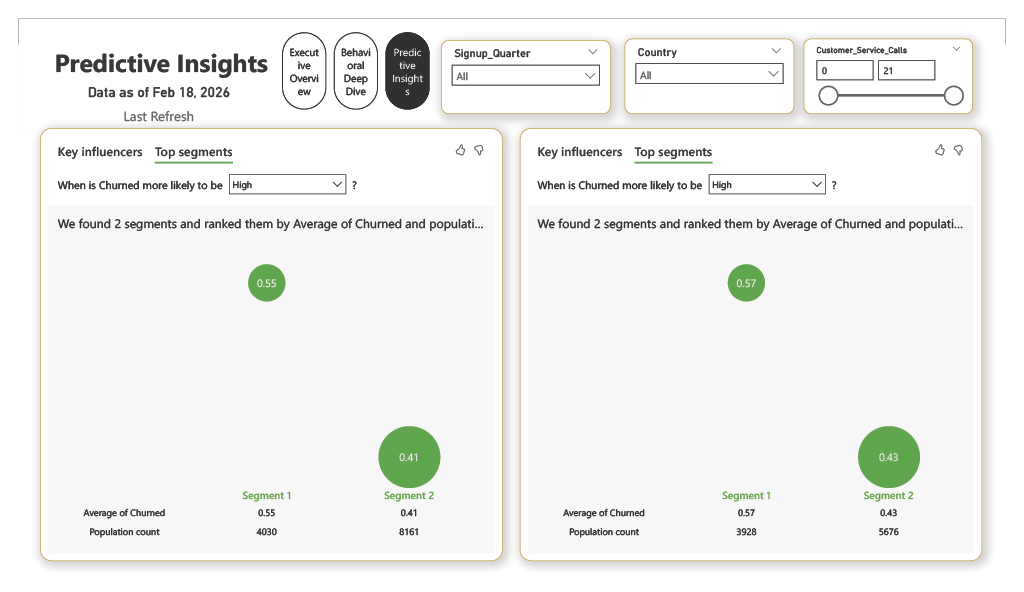

Layout of this report page (visuals, bound fields, positions):
{"tool":"powerbi","page":{"name":"Predictive Insights","canvas":[1280,720],"ordinal":2},"visuals":[{"type":"slicer","fields":{"Values":["ecommerce_customer_churn_dataset_cleaned.Customer_Service_Calls"]},"box":[1018,26,220,98],"z":0},{"type":"slicer","fields":{"Values":["ecommerce_customer_churn_dataset_cleaned.Country"]},"box":[786,26,220,98],"z":1000},{"type":"slicer","fields":{"Values":["ecommerce_customer_churn_dataset_cleaned.Signup_Quarter"]},"box":[548,28,220,96],"z":2000},{"type":"keyDriversVisual","fields":{"Target":["ecommerce_customer_churn_dataset_cleaned.Churned"],"ExplainBy":["Sum(ecommerce_customer_churn_dataset_cleaned.Login_Frequency)"]},"box":[28,142,600,562],"z":3000},{"type":"keyDriversVisual","fields":{"ExplainBy":["Sum(ecommerce_customer_churn_dataset_cleaned.Mobile_App_Usage)"],"Target":["ecommerce_customer_churn_dataset_cleaned.Churned"]},"box":[650,142,600,562],"z":4000},{"type":"textbox","box":[28,30,314,76],"z":5000},{"type":"card","fields":{"Values":["ecommerce_customer_churn_dataset_cleaned.Last Refresh"]},"box":[44,72,276,70],"z":5001},{"type":"pageNavigator","box":[342,18,192,100],"z":5002}]}

Visuals, with their boxes in screenshot pixels (x1, y1, x2, y2), scaled from the page's 1280x720 canvas onto the 1024x592 screenshot:
slicer - ecommerce_customer_churn_dataset_cleaned.Customer_Service_Calls: [814, 21, 990, 102]
slicer - ecommerce_customer_churn_dataset_cleaned.Country: [629, 21, 805, 102]
slicer - ecommerce_customer_churn_dataset_cleaned.Signup_Quarter: [438, 23, 614, 102]
keyDriversVisual - ecommerce_customer_churn_dataset_cleaned.Churned x Sum(ecommerce_customer_churn_dataset_cleaned.Login_Frequency): [22, 117, 502, 579]
keyDriversVisual - Sum(ecommerce_customer_churn_dataset_cleaned.Mobile_App_Usage) x ecommerce_customer_churn_dataset_cleaned.Churned: [520, 117, 1000, 579]
textbox: [22, 25, 274, 87]
card - ecommerce_customer_churn_dataset_cleaned.Last Refresh: [35, 59, 256, 117]
pageNavigator: [274, 15, 427, 97]
